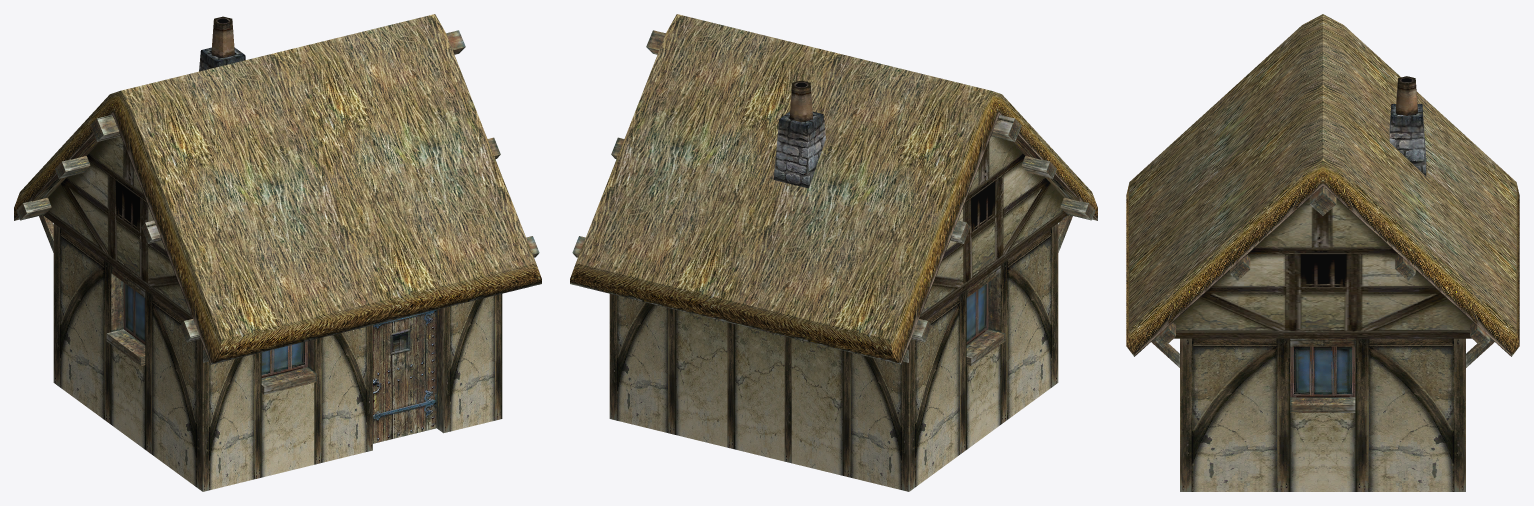
File: S_home30.glb
The picture shows the model from 3 angles, left to right: view 1: azimuth 30°, elevation 25°; view 2: azimuth 150°, elevation 25°; view 3: azimuth 270°, elevation 25°; orthographic projection. The views are drawn at different scales.
Visible parts, largest first — view 1: S_home30-col; view 2: S_home30-col; view 3: S_home30-col.
Boxes of the visible parts, x1,y1,x2,y2 form: S_home30-col: (14,14,541,491); S_home30-col: (570,14,1097,491); S_home30-col: (1126,14,1519,491).
Size of the model in its own units: 6.17 by 5.71 by 6.05.
Materials: 9 (9 with a texture image).
